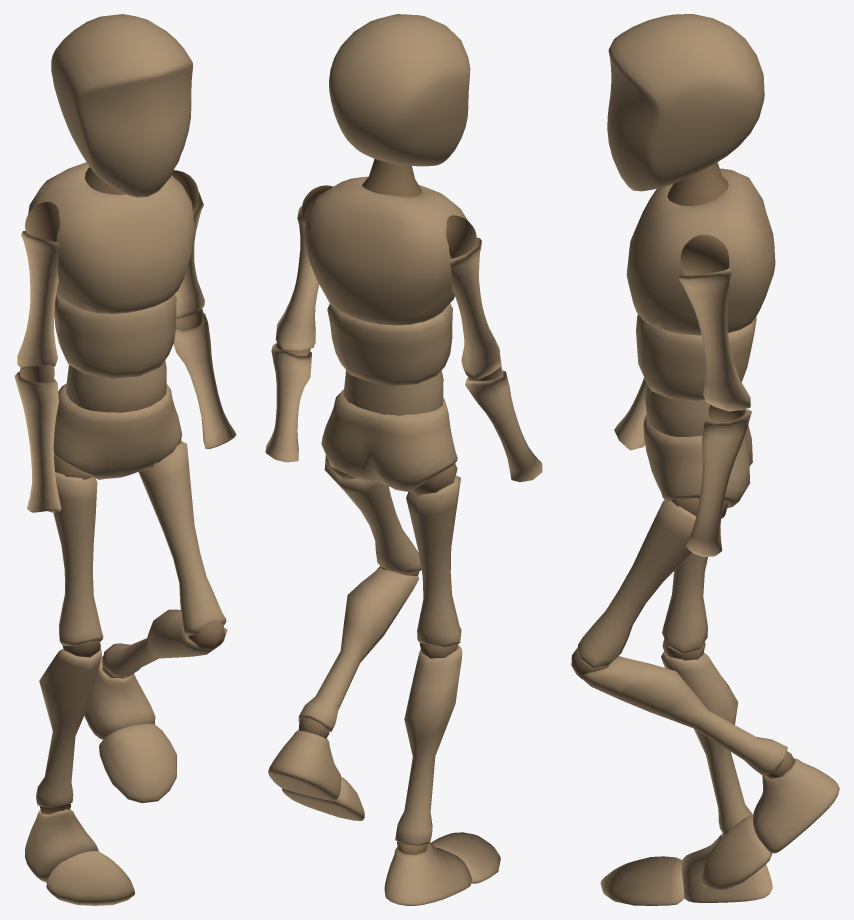
3 views of the same model, side by side, from view 1: azimuth 30°, elevation 25°; view 2: azimuth 150°, elevation 25°; view 3: azimuth 270°, elevation 25° (orthographic). The views are drawn at different scales.
Visible parts, largest first — view 1: Bony_head_Untitled.029, Bony_chest_Untitled.009, Bony_R_leg_Untitled.007, Bony_L_leg_Untitled.031, Bony_pelvis_Untitled.015, Bony_R_arm_Untitled.041, Bony_spine2_Untitled.027, Bony_L_arm_Untitled.019, Bony_L_toe_Untitled.006, Bony_R_toe_Untitled.018, Bony_spine1_Untitled.025, Bony_L_foot_Untitled.014 (+5 smaller); view 2: Bony_chest_Untitled.009, Bony_head_Untitled.029, Bony_R_leg_Untitled.007, Bony_L_leg_Untitled.031, Bony_pelvis_Untitled.015, Bony_spine2_Untitled.027, Bony_R_arm_Untitled.041, Bony_L_arm_Untitled.019, Bony_R_foot_Untitled.043, Bony_L_foot_Untitled.014, Bony_spine1_Untitled.025, Bony_R_toe_Untitled.018 (+4 smaller); view 3: Bony_head_Untitled.029, Bony_chest_Untitled.009, Bony_L_leg_Untitled.031, Bony_L_arm_Untitled.019, Bony_R_leg_Untitled.007, Bony_spine2_Untitled.027, Bony_L_foot_Untitled.014, Bony_pelvis_Untitled.015, Bony_R_toe_Untitled.018, Bony_L_toe_Untitled.006, Bony_R_foot_Untitled.043, Bony_spine1_Untitled.025 (+3 smaller).
Part boxes in pixels (x1,y1,x2,y2): Bony_head_Untitled.029: [51, 14, 192, 197]; Bony_chest_Untitled.009: [28, 162, 194, 313]; Bony_R_leg_Untitled.007: [36, 472, 103, 807]; Bony_L_leg_Untitled.031: [103, 441, 227, 677]; Bony_pelvis_Untitled.015: [53, 383, 182, 479]; Bony_R_arm_Untitled.041: [14, 231, 61, 513]; Bony_spine2_Untitled.027: [54, 294, 176, 378]; Bony_L_arm_Untitled.019: [173, 191, 236, 448]; Bony_L_toe_Untitled.006: [99, 723, 176, 803]; Bony_R_toe_Untitled.018: [46, 851, 134, 905]; Bony_spine1_Untitled.025: [66, 360, 166, 412]; Bony_L_foot_Untitled.014: [84, 656, 155, 739]; Bony_chest_Untitled.009: [303, 176, 467, 325]; Bony_head_Untitled.029: [329, 14, 470, 166]; Bony_R_leg_Untitled.007: [395, 475, 462, 845]; Bony_L_leg_Untitled.031: [298, 455, 421, 731]; Bony_pelvis_Untitled.015: [321, 389, 457, 491]; Bony_spine2_Untitled.027: [327, 303, 452, 385]; Bony_R_arm_Untitled.041: [450, 237, 542, 482]; Bony_L_arm_Untitled.019: [265, 206, 318, 462]; Bony_R_foot_Untitled.043: [384, 842, 471, 905]; Bony_L_foot_Untitled.014: [268, 730, 341, 800]; Bony_spine1_Untitled.025: [343, 370, 443, 415]; Bony_R_toe_Untitled.018: [431, 832, 500, 883]; Bony_head_Untitled.029: [607, 14, 764, 191]; Bony_chest_Untitled.009: [626, 168, 775, 335]; Bony_L_leg_Untitled.031: [578, 500, 787, 775]; Bony_L_arm_Untitled.019: [679, 268, 751, 556]; Bony_R_leg_Untitled.007: [661, 553, 753, 834]; Bony_spine2_Untitled.027: [636, 314, 756, 400]; Bony_L_foot_Untitled.014: [753, 758, 839, 853]; Bony_pelvis_Untitled.015: [643, 409, 752, 508]; Bony_R_toe_Untitled.018: [600, 856, 684, 905]; Bony_L_toe_Untitled.006: [702, 815, 772, 890]; Bony_R_foot_Untitled.043: [681, 834, 772, 902]; Bony_spine1_Untitled.025: [644, 384, 710, 436].
Size of the model in its own units: 0.0273 by 0.0918 by 0.0249.
